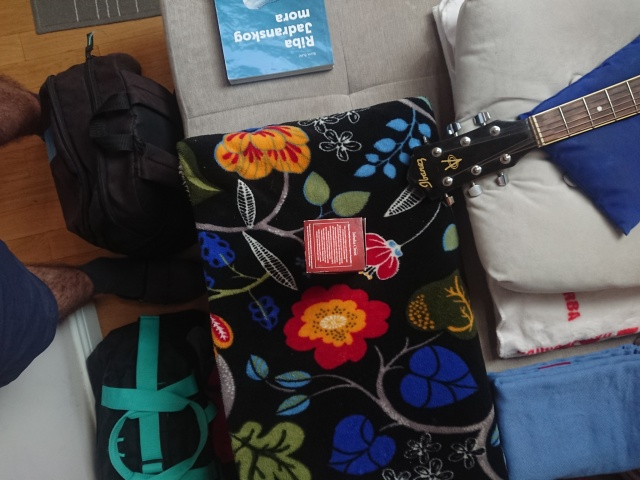Franck Apple Cinnamon Tea 60g: (301, 215, 367, 273)
